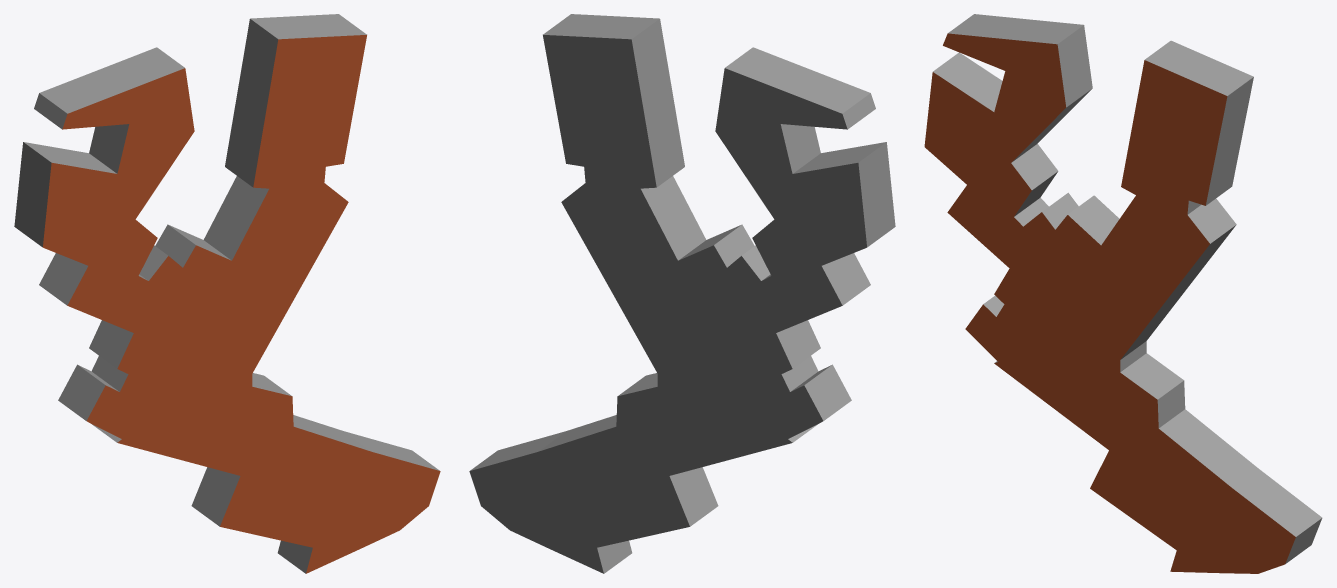
File: construction_5776_assumed_A_Casa_h6m.obj
The picture shows the model from 3 angles, left to right: view 1: azimuth 30°, elevation 25°; view 2: azimuth 150°, elevation 25°; view 3: azimuth 330°, elevation 25°; orthographic projection. The views are drawn at different scales.
Visible parts, largest first — view 1: construction_5776_assumed_A_Casa; view 2: construction_5776_assumed_A_Casa; view 3: construction_5776_assumed_A_Casa.
Boxes of the visible parts, <box> form: construction_5776_assumed_A_Casa: <box>14,14,440,573</box>; construction_5776_assumed_A_Casa: <box>469,14,895,573</box>; construction_5776_assumed_A_Casa: <box>924,14,1322,573</box>.
Bounding box in the file's own units: 48.48 × 63.05 × 6.
